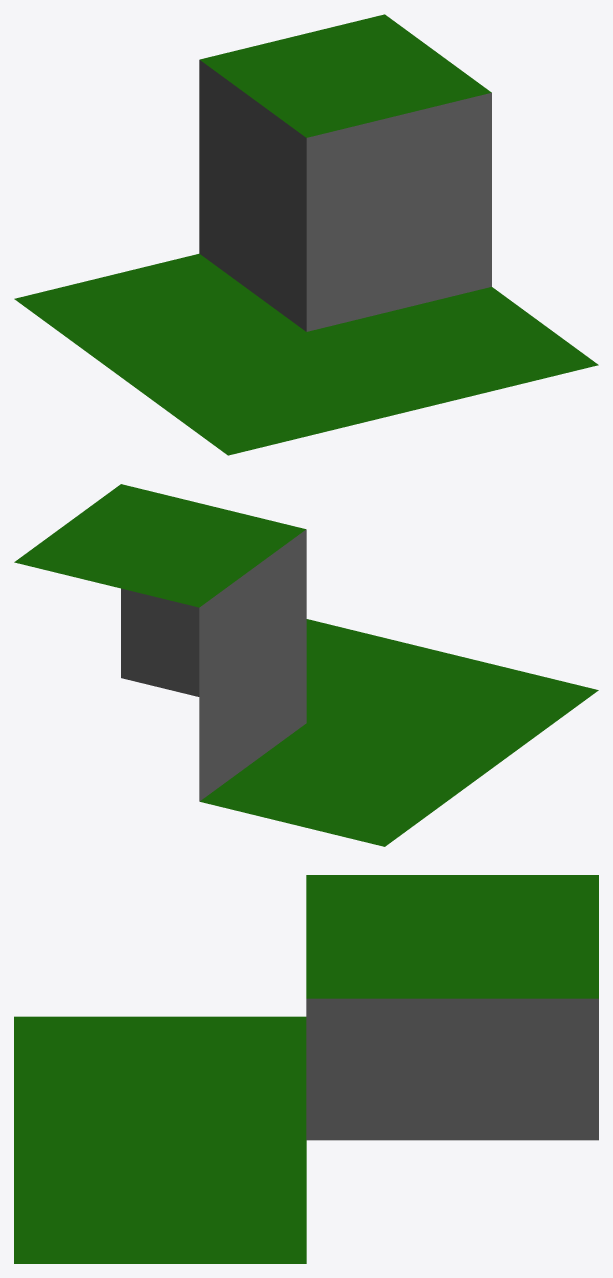
The model's file is wfc_module_10.fbx.
3 views of the same model, one above another, from view 1: azimuth 30°, elevation 25°; view 2: azimuth 150°, elevation 25°; view 3: azimuth 270°, elevation 25° (orthographic). The views are drawn at different scales.
Parts seen in each view (by area): view 1: wfc_module_10; view 2: wfc_module_10; view 3: wfc_module_10.
Boxes of the visible parts, bbox=[...] form: wfc_module_10: bbox=[14, 14, 598, 455]; wfc_module_10: bbox=[14, 484, 598, 846]; wfc_module_10: bbox=[14, 875, 598, 1263].
Bounding box in the file's own units: 100 × 50 × 100.
